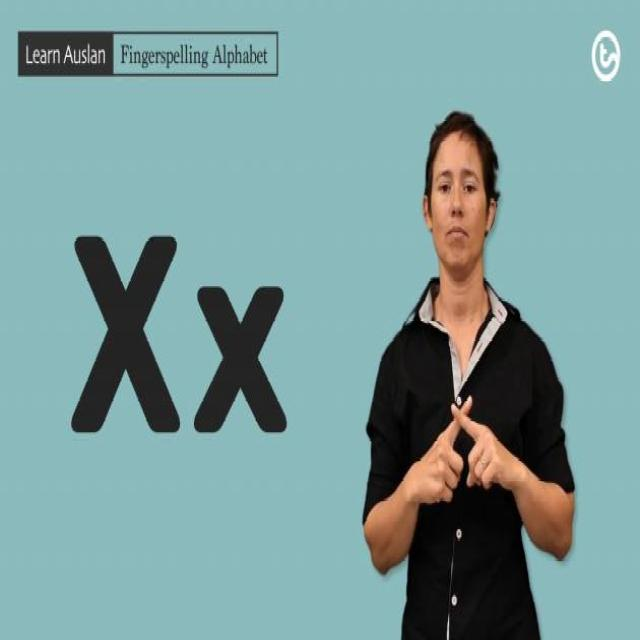X: (433, 386, 500, 516)
